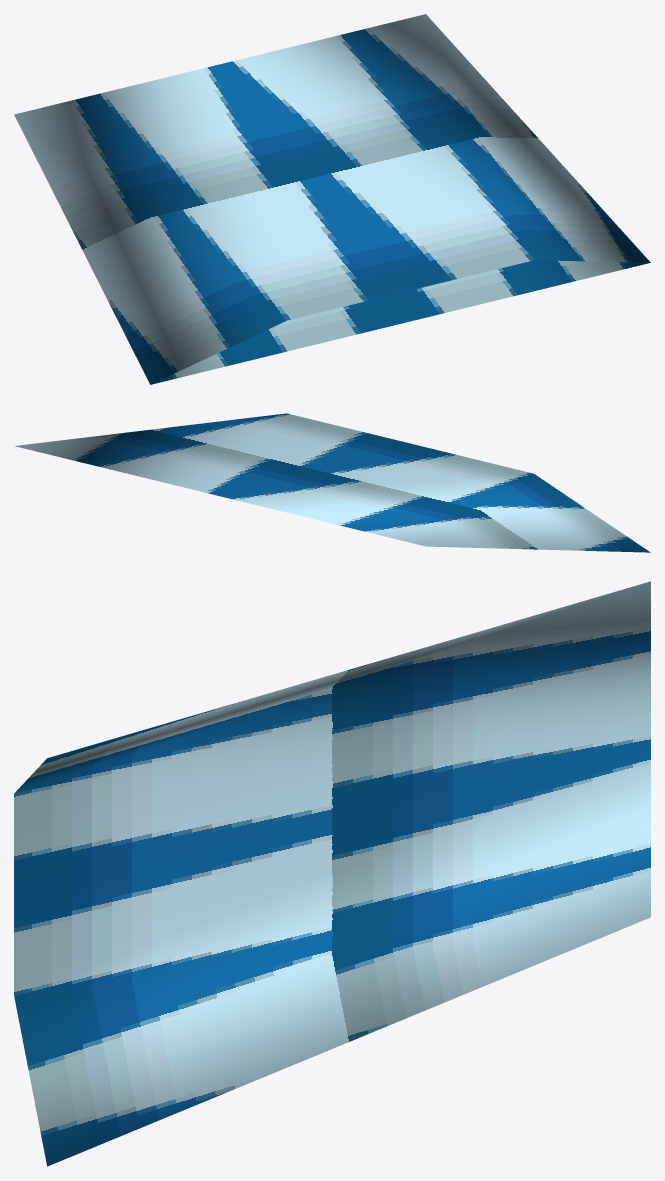
File: 2295skirt00_r.gltf
3 renders of one model, top to bottom at view 1: azimuth 30°, elevation 25°; view 2: azimuth 150°, elevation 25°; view 3: azimuth 270°, elevation 25°, orthographic. The views are drawn at different scales.
Visible parts, largest first — view 1: 2295skirt00_r; view 2: 2295skirt00_r; view 3: 2295skirt00_r.
Boxes of the visible parts, x1=… form: 2295skirt00_r: x1=14, y1=14, x2=650, y2=384; 2295skirt00_r: x1=15, y1=413, x2=650, y2=552; 2295skirt00_r: x1=14, y1=581, x2=650, y2=1166.
Bounding box in the file's own units: 0.9868 × 0.24 × 0.6504.
Materials: 1 (1 with a texture image).
